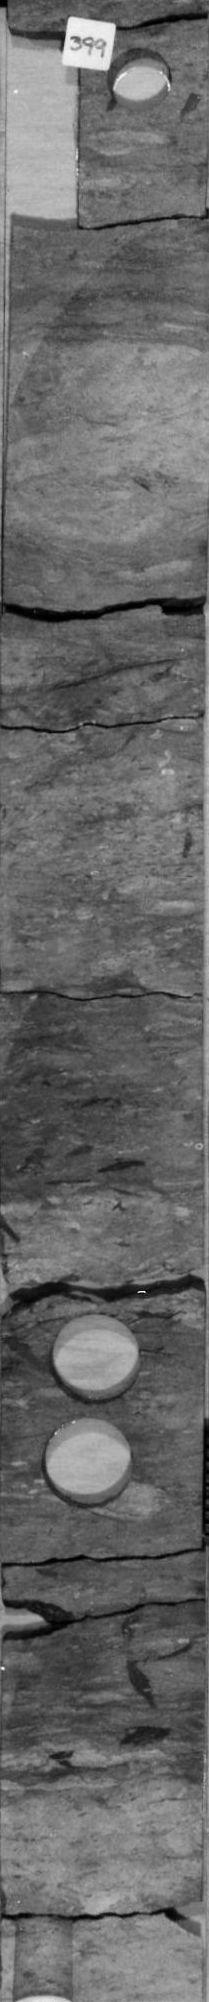hplug: (103, 42, 178, 115), (1, 1590, 84, 1652)
scal: (37, 1410, 141, 1510), (48, 1309, 143, 1407)
vplug: (11, 19, 92, 243), (6, 1901, 83, 2002)
